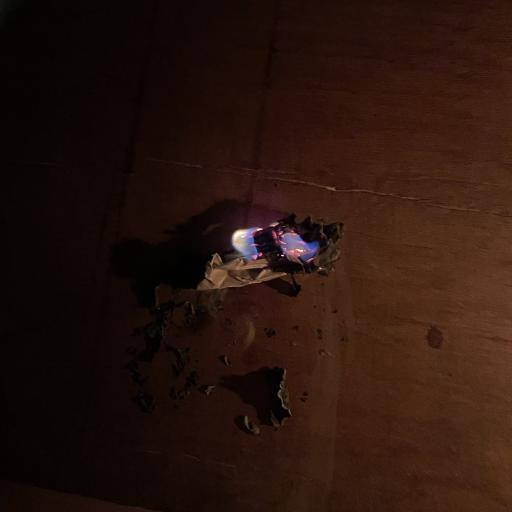fire: (197, 213, 343, 296)
